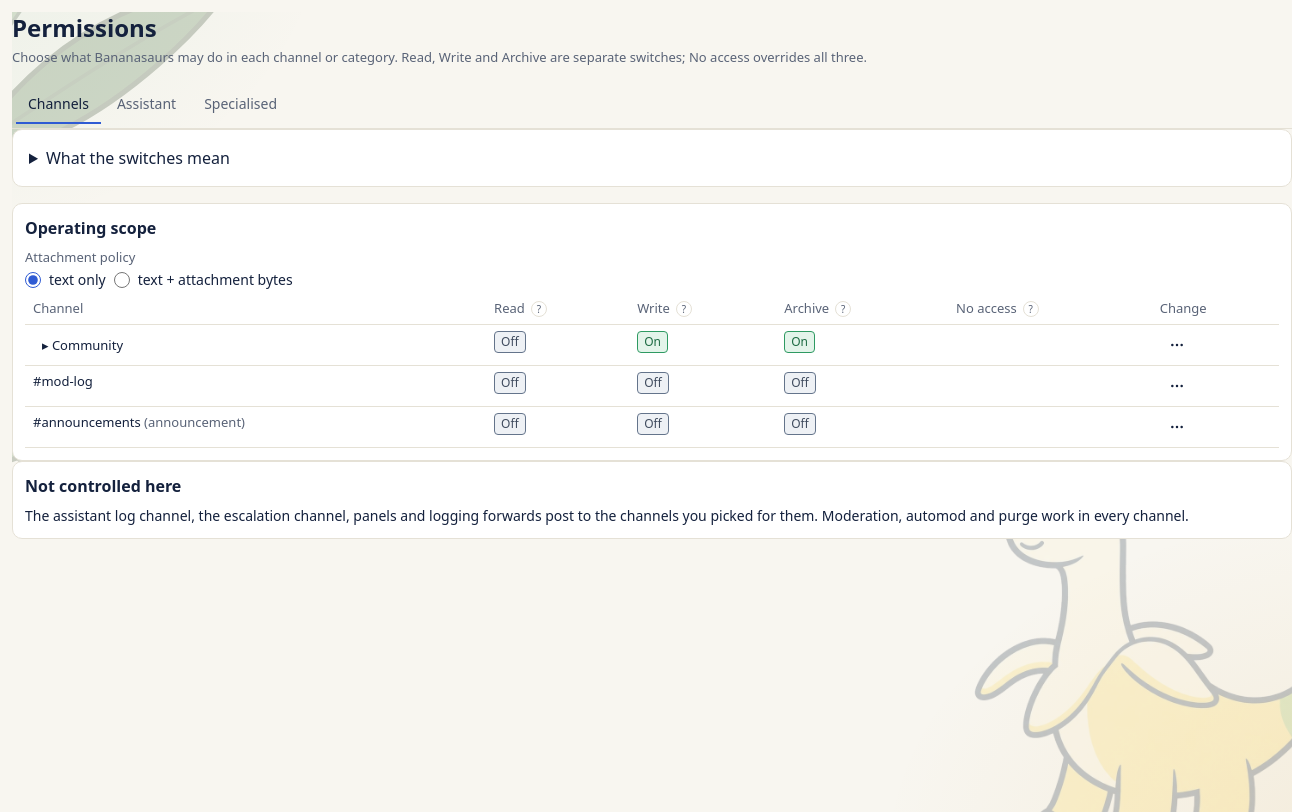
Test: PermissionsPage › marks an excluded channel and overrides its rows
What coordinates should you click on to do the following:
click the button "▸ Community"
I would click on:
 (82, 345)
Its box is [33,331,132,359].
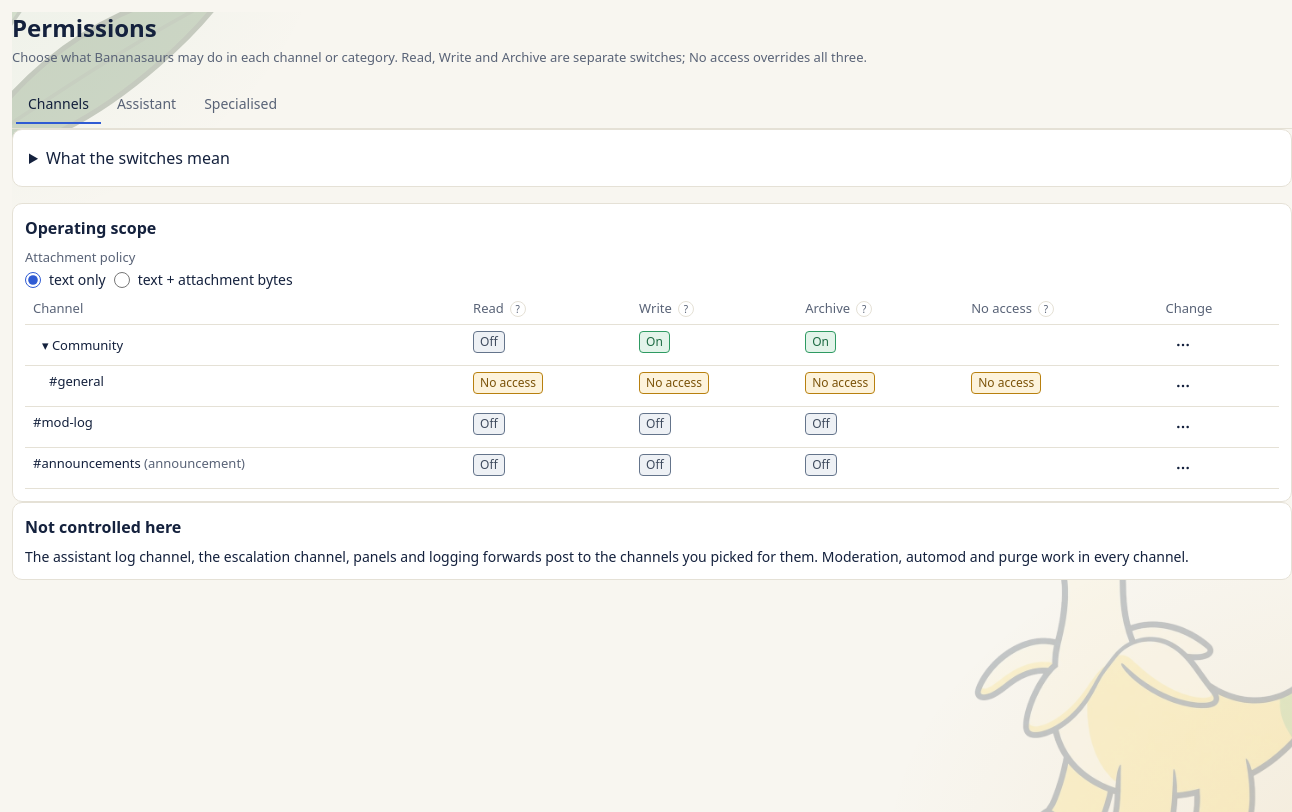
What coordinates should you click on to do the following:
click the button named "Change #general"
I would click on:
 (1182, 386)
Its box is [1166,372,1200,400].
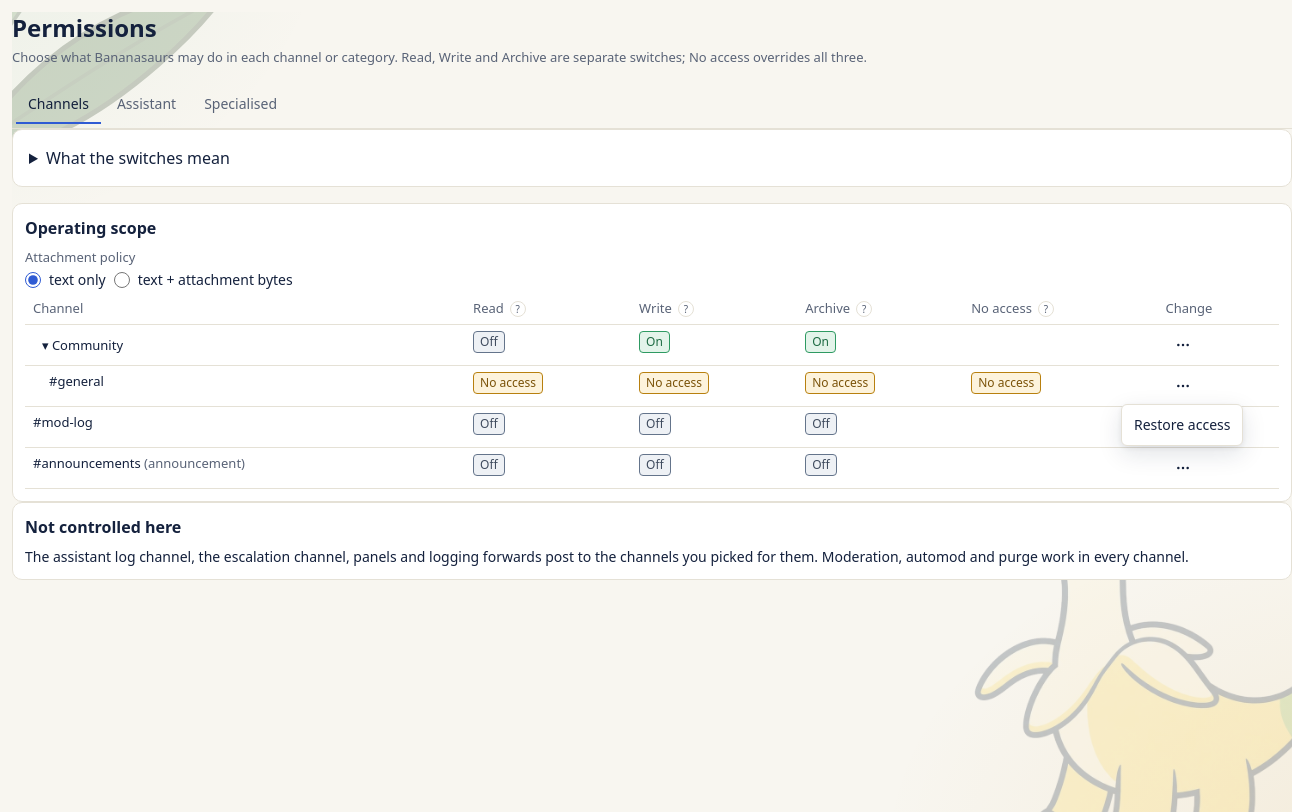
Expected: the text "No access" is shown 6 times
Expected: the menu item "Restore access" is shown, [1134,415,1230,434]
